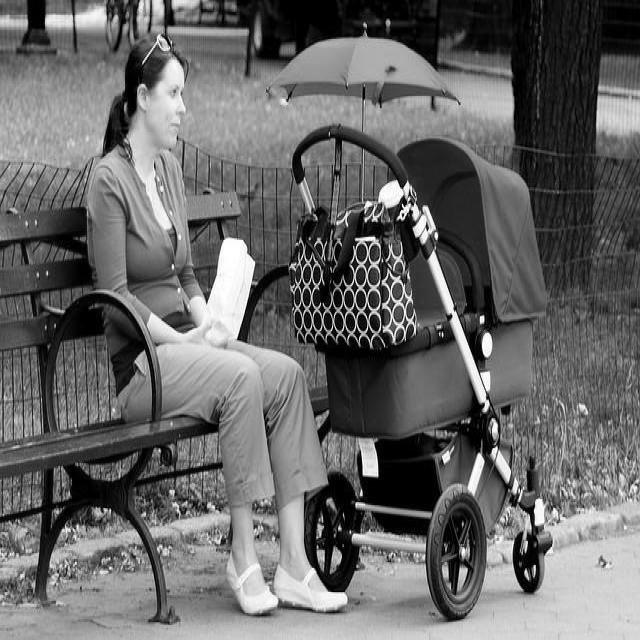vehicle: (252, 2, 440, 75)
